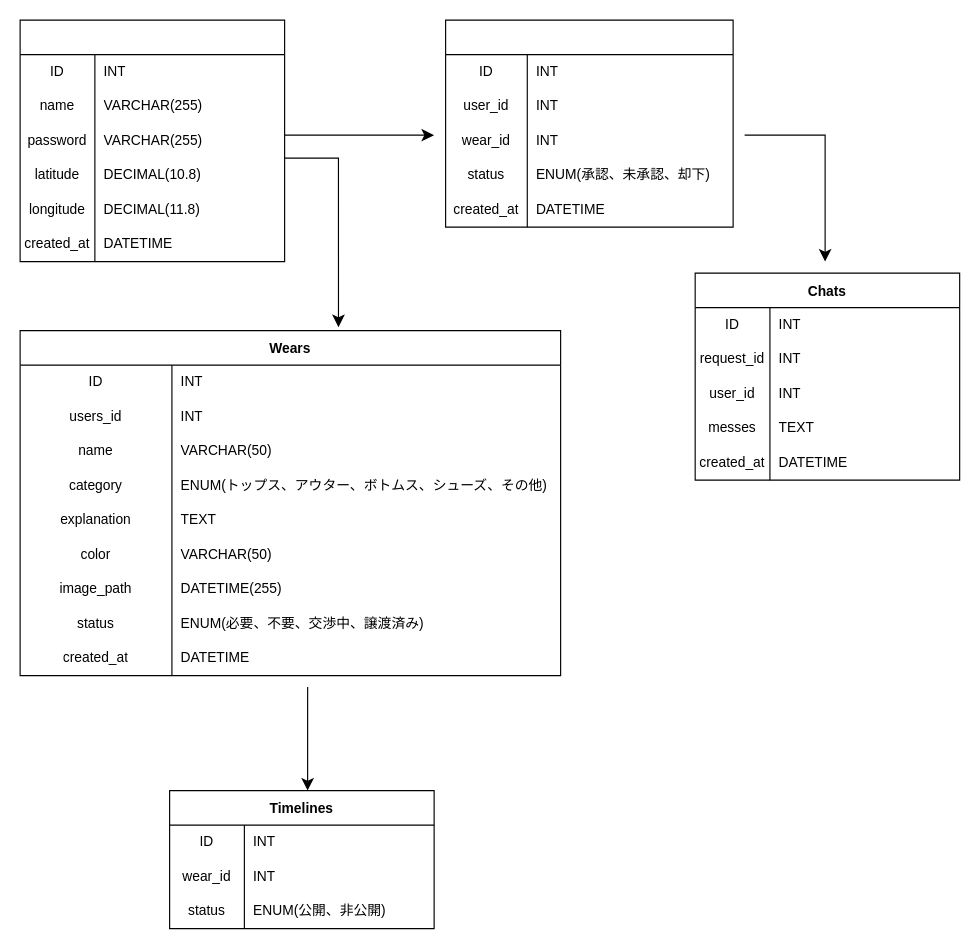
Some shapes in this 980 by 949 pixel diagram are drawn without their labels. Here are the shapes that lost their labels. From the top down, the box of each, then its label:
(19, 19, 285, 262): Users
(444, 19, 733, 227): Requests
